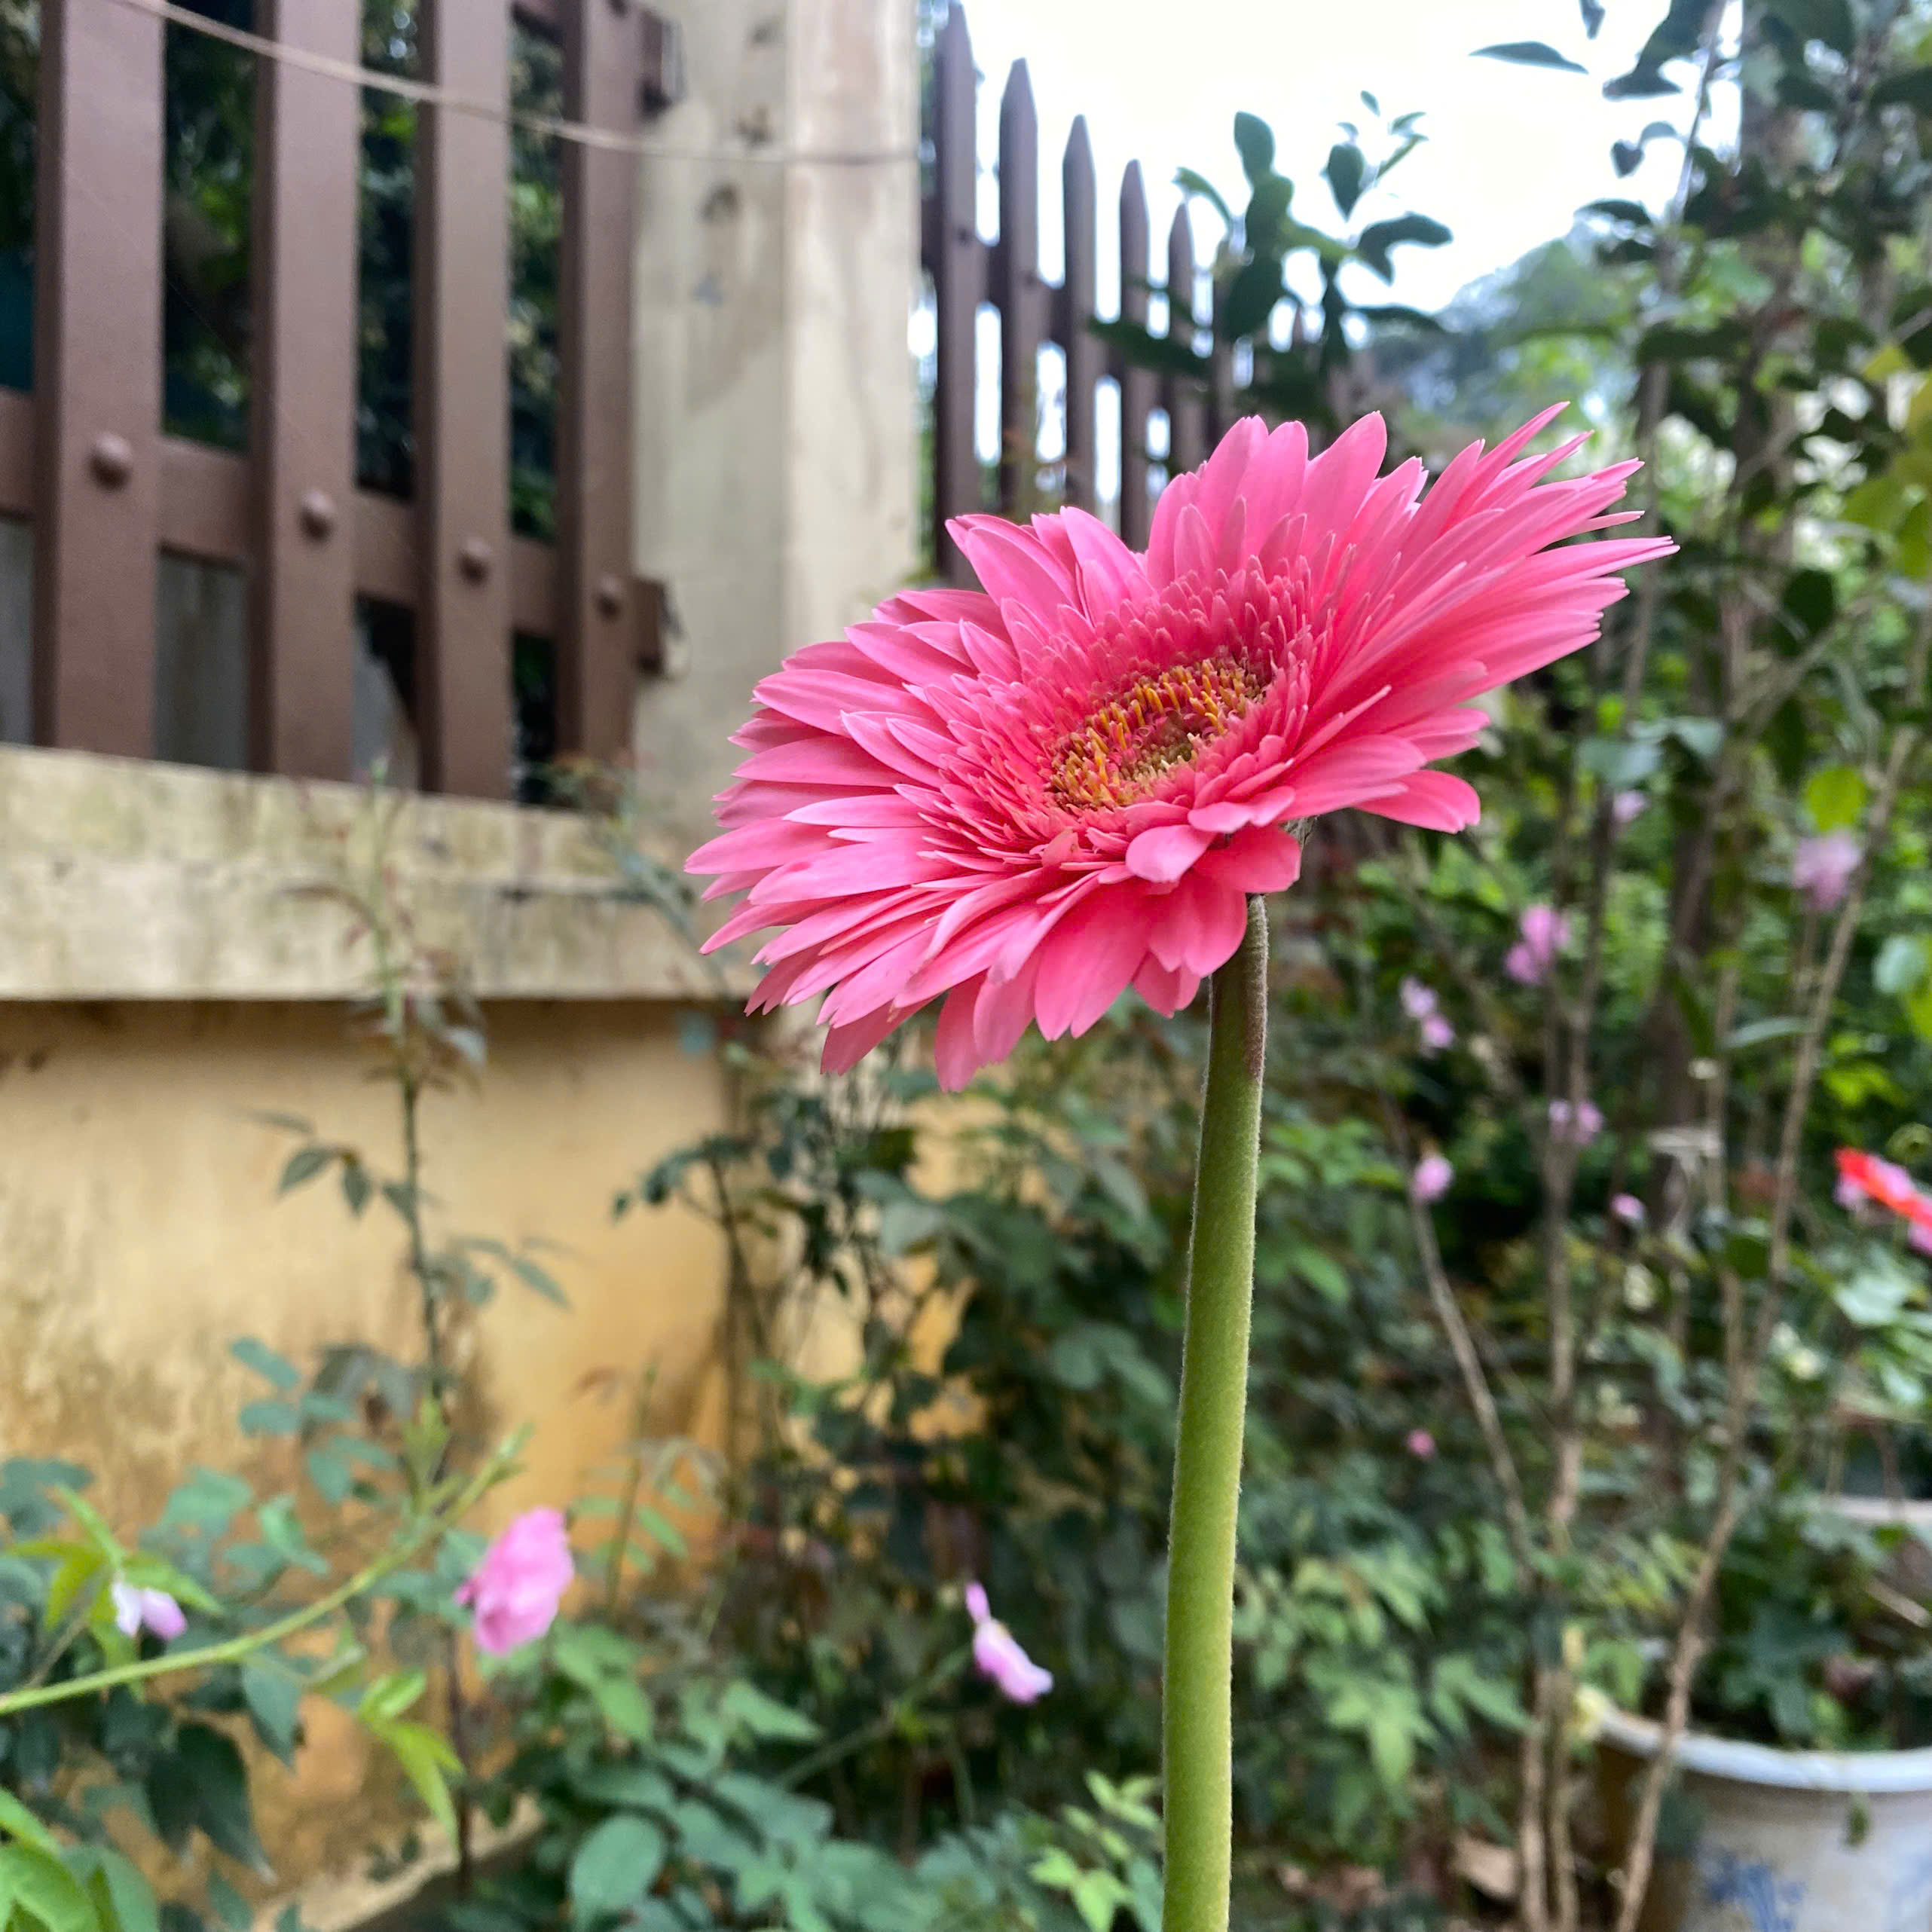hoa_huong_duong: (662, 347, 1693, 1930)
